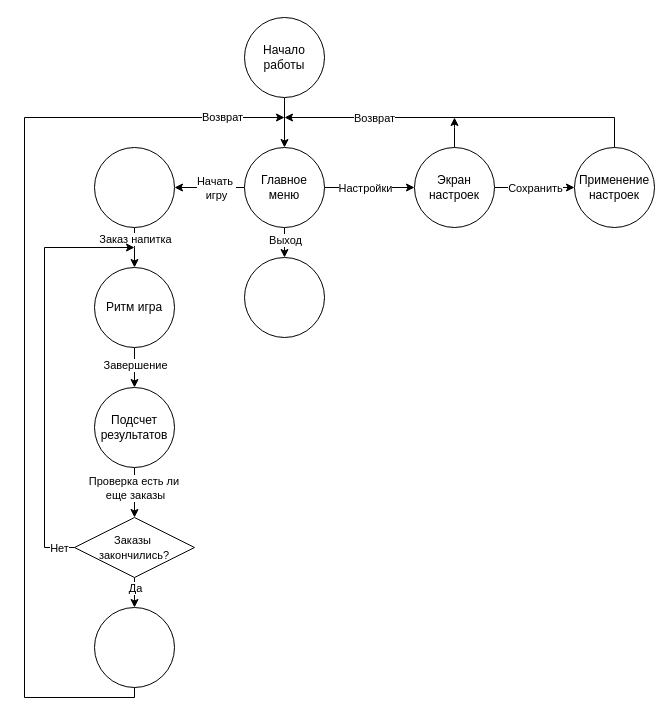
Some shapes in this 672 by 723 pixel diagram are drawn without their labels. Here are the shapes that lost their labels. From the top down, the box of each, then its label:
(94, 146, 174, 228): Пролог
(244, 256, 324, 338): Конец работы
(94, 606, 174, 688): Концовка
